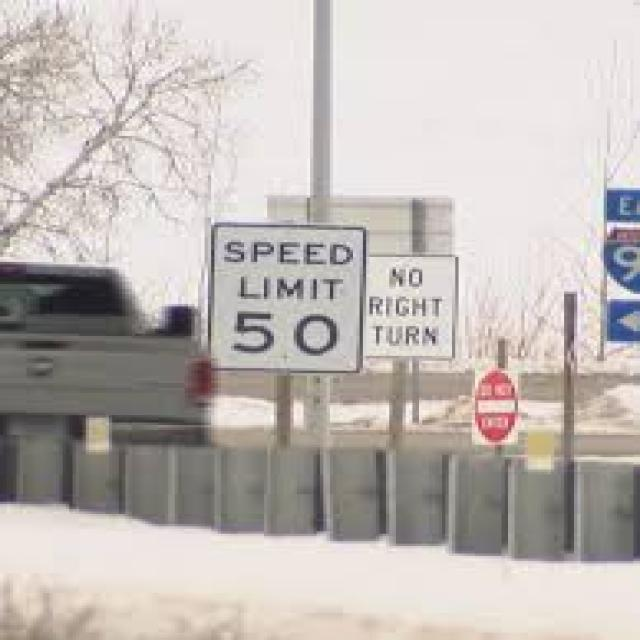speedLimit50: (208, 215, 366, 371)
